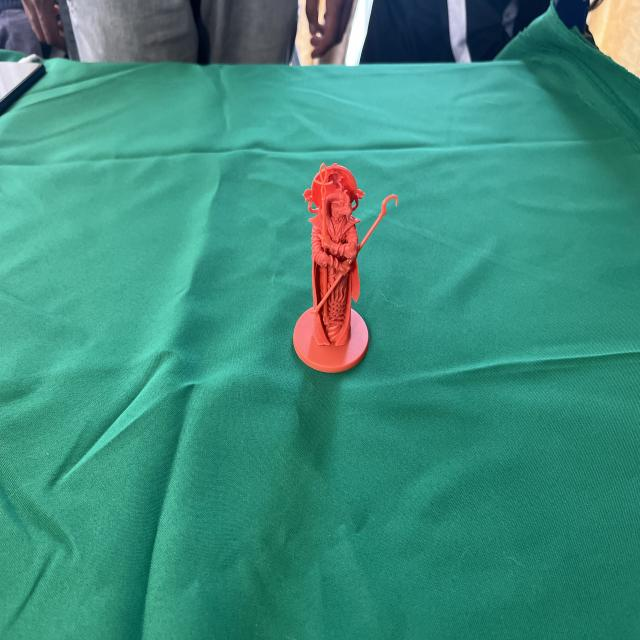amon: (291, 152, 402, 382)
